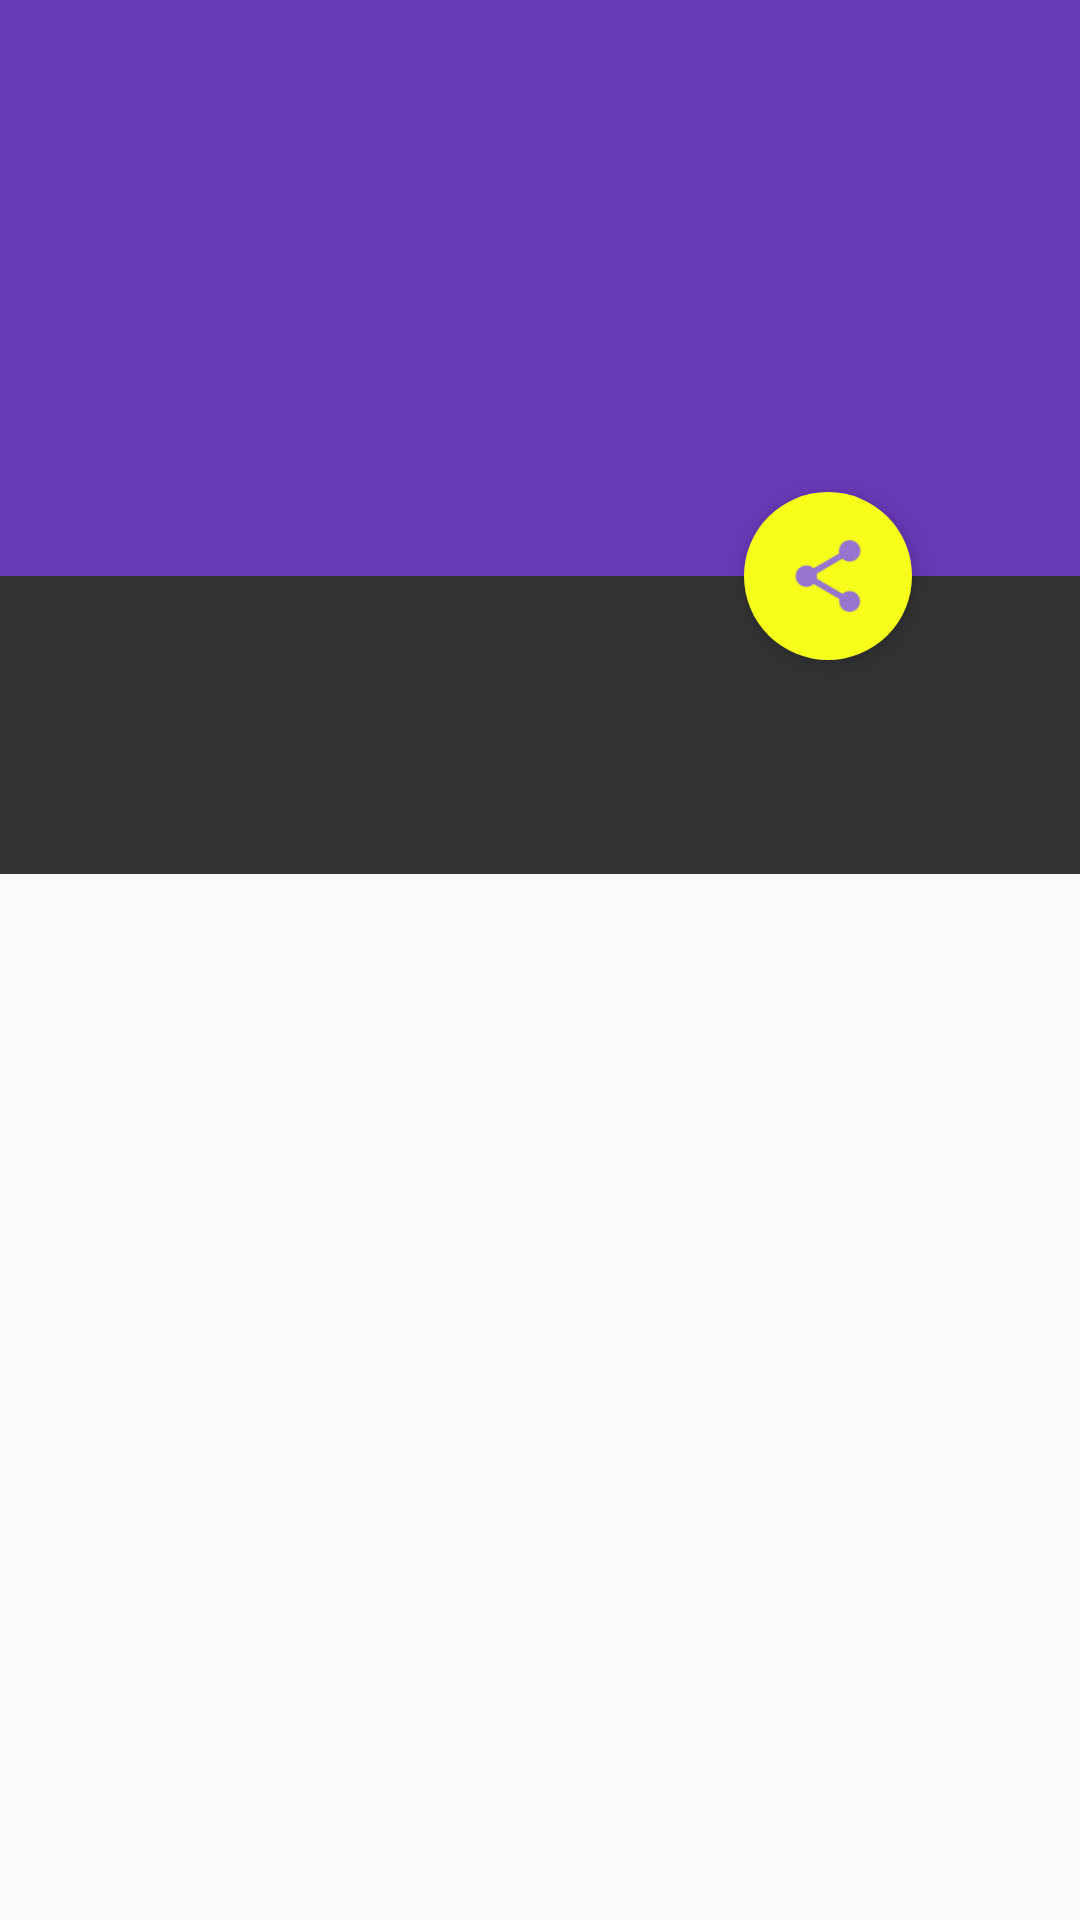

Icons on this 1080px x 1920px Android screen, each with the point to tap as [x,y]:
share: [828,576]
